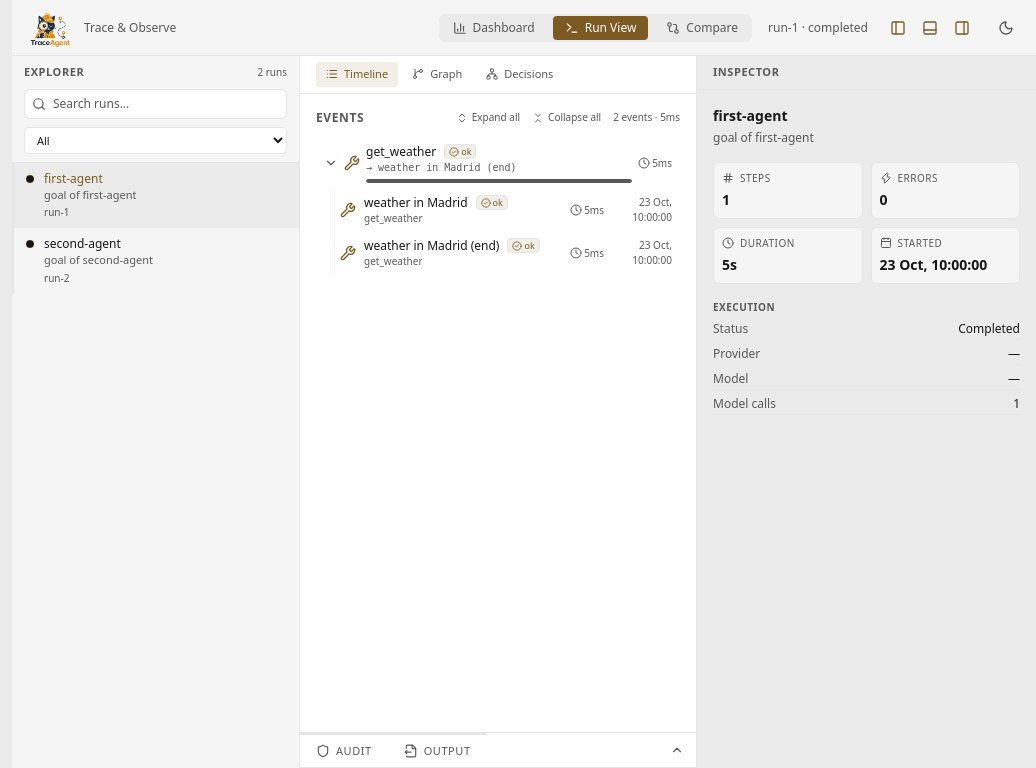
it: App › does not keep showing the event selected in another run in the inspector
Note: Inspect one of the events of the first run.
Click the text "weather in Madrid": (416, 202) [364,194,468,210]
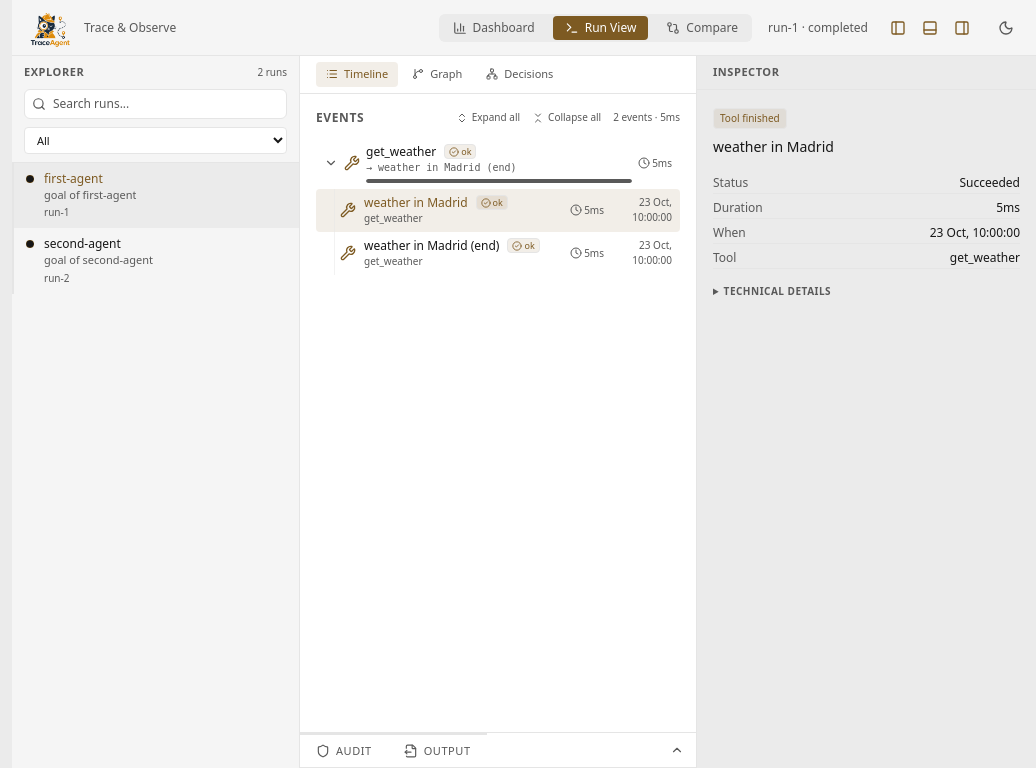
Note: Switch to the second run: its own overview shows, not the event of the first.
Click the text "second-agent": (82, 244) [44,235,121,252]
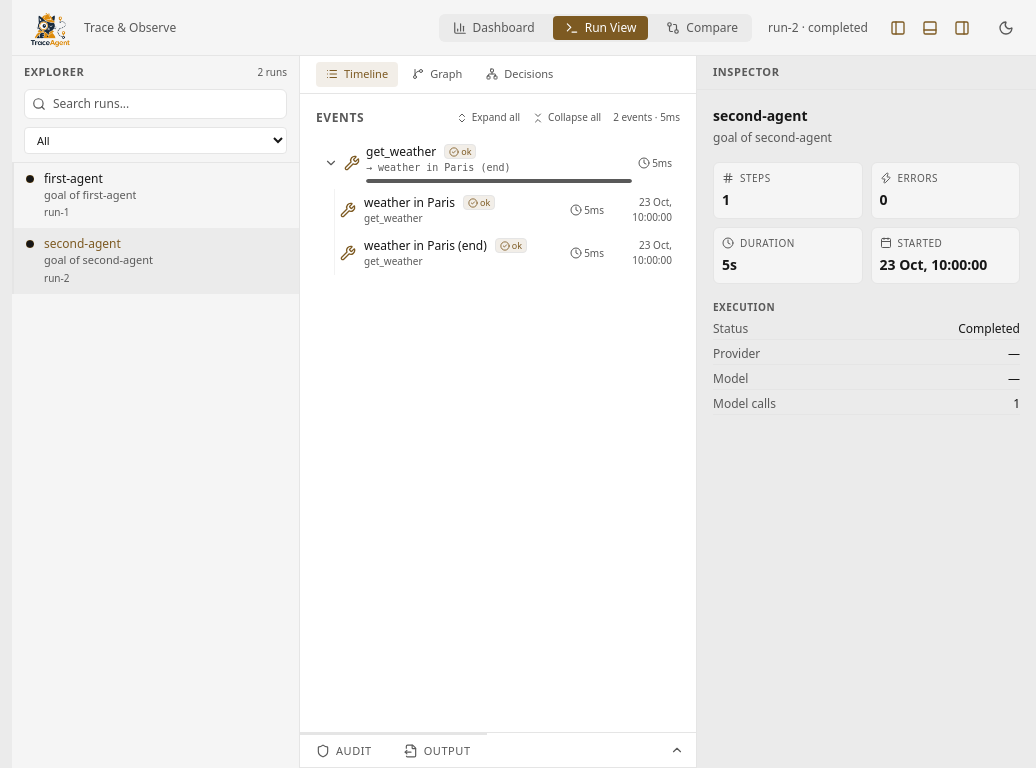
expect the text "goal of second-agent" below "Inspector" is shown: met, box [713,128,832,146]
expect the button "weather in Madrid" is gone: met
